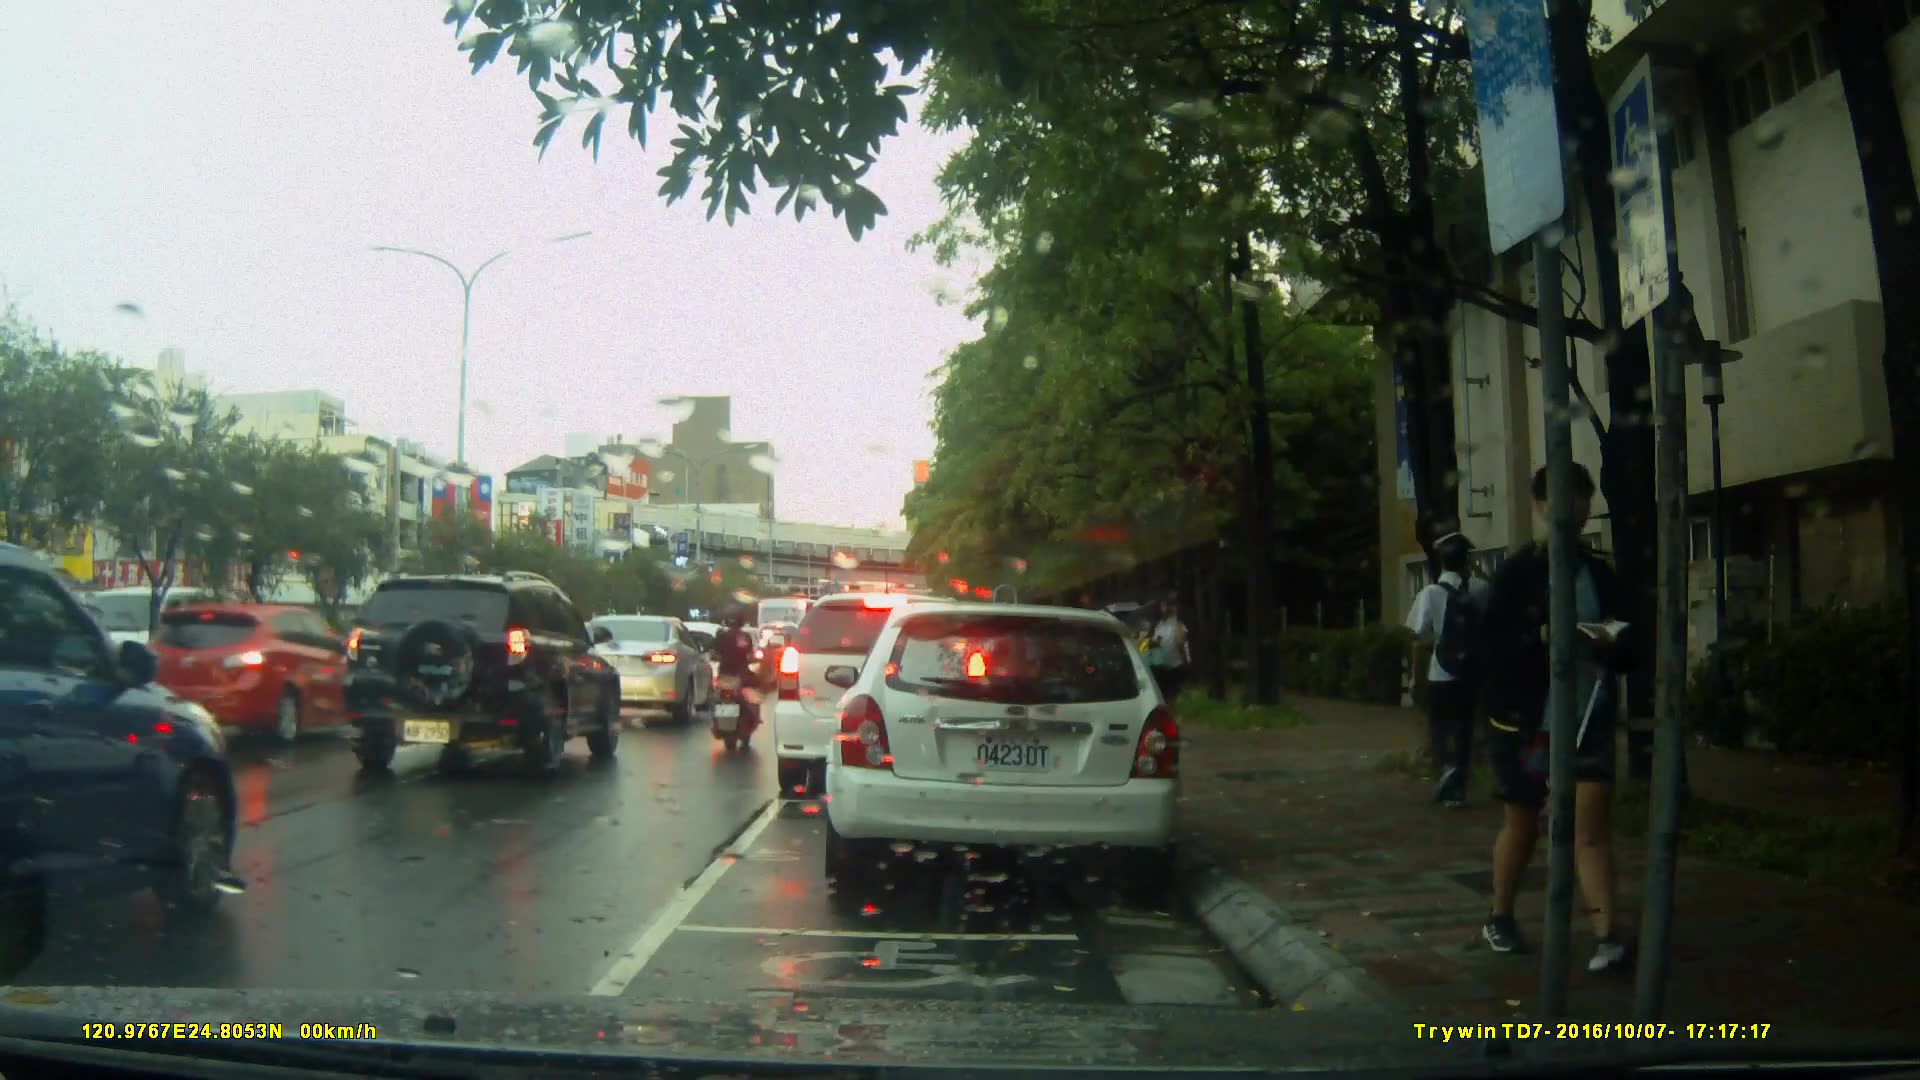pedestrian: (1506, 442, 1661, 960), (1140, 588, 1196, 730)
rider: (708, 602, 776, 754)
vehicle: (815, 593, 1201, 901), (1, 546, 242, 951), (334, 568, 626, 783), (771, 590, 995, 802), (133, 602, 377, 752), (546, 612, 709, 733)
